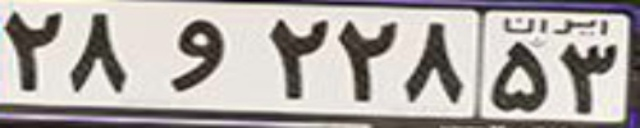2: (2, 7, 62, 91), (268, 16, 328, 99), (337, 19, 396, 103)
3: (561, 43, 618, 114)
5: (491, 40, 549, 110)
8: (405, 22, 466, 102), (70, 10, 125, 93)
vav: (169, 18, 223, 91)
